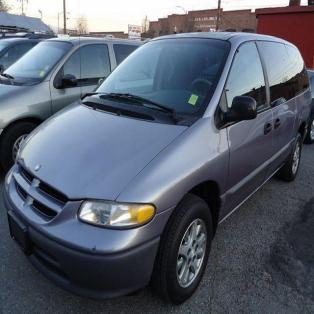Auto: (3, 24, 313, 310)
